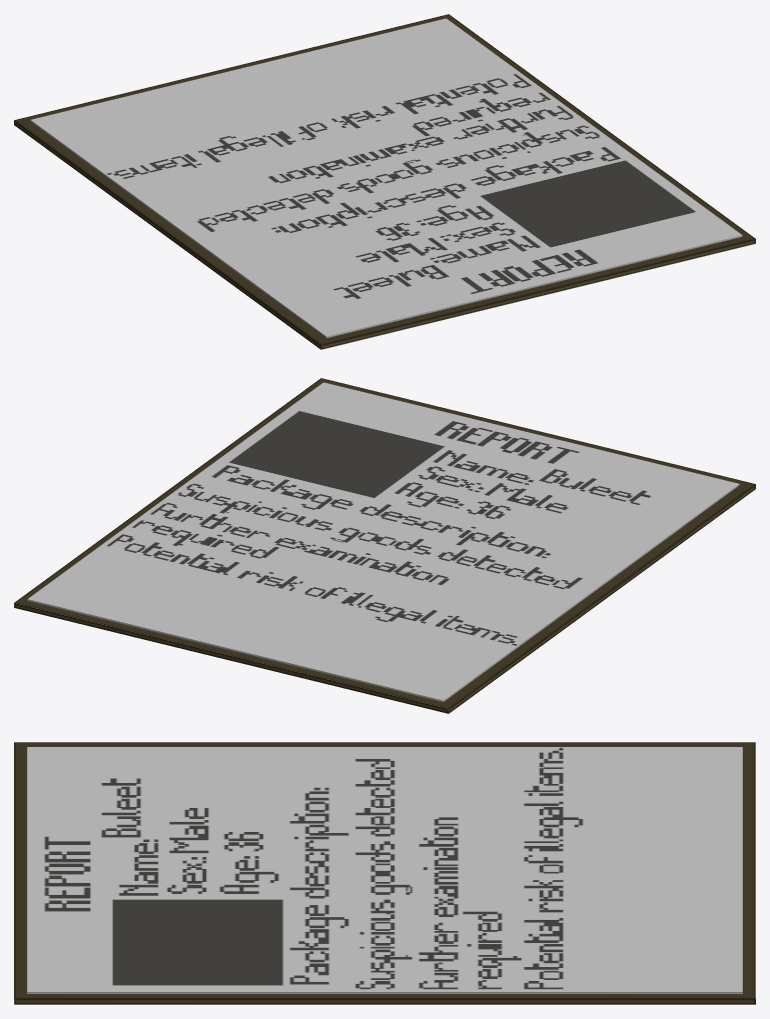
File: note_full_gun.fbx
3 renders of one model, top to bottom at view 1: azimuth 30°, elevation 25°; view 2: azimuth 150°, elevation 25°; view 3: azimuth 270°, elevation 25°, orthographic. The views are drawn at different scales.
Parts seen in each view (by area): view 1: cube, cube_1; view 2: cube, cube_1; view 3: cube, cube_1.
Part boxes in pixels (x1,y1,x2,y2): cube: (30, 18, 742, 338); cube_1: (14, 14, 755, 349); cube: (27, 382, 739, 702); cube_1: (14, 378, 755, 713); cube: (27, 747, 742, 993); cube_1: (14, 742, 755, 1004).
Size of the model in its own units: 1731 by 25 by 2119.
1 material, 1 textured.
